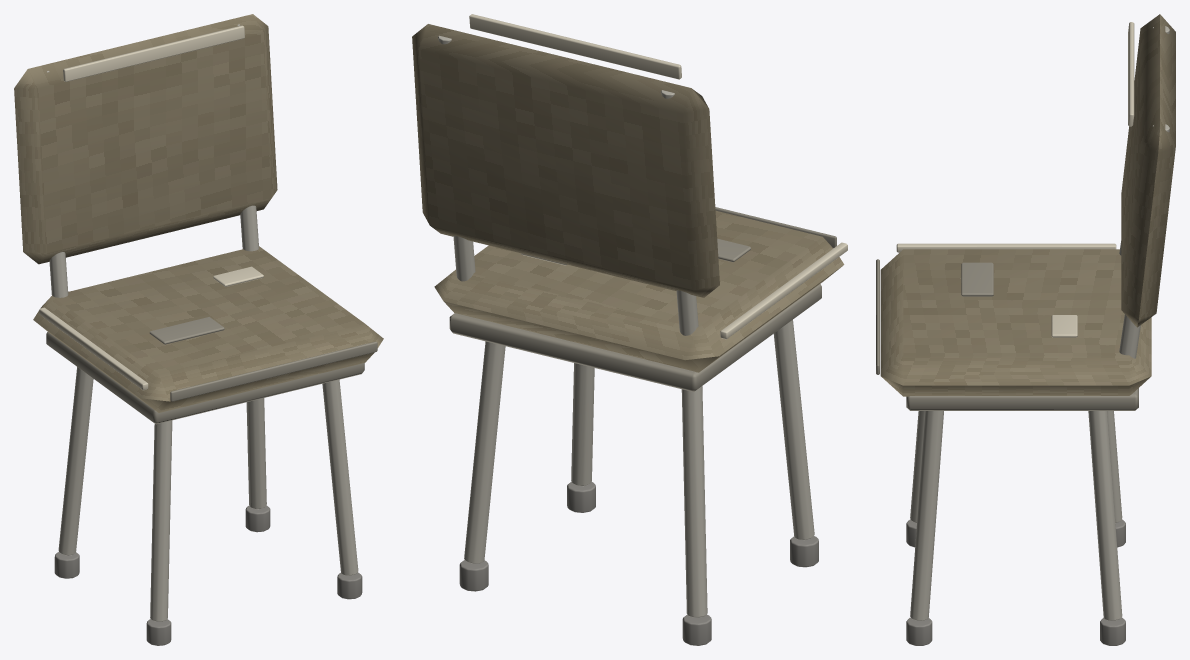
File: Chair_Old_A.glb
3 views of the same model, side by side, from view 1: azimuth 30°, elevation 25°; view 2: azimuth 150°, elevation 25°; view 3: azimuth 270°, elevation 25° (orthographic). The views are drawn at different scales.
Parts seen in each view (by area): view 1: Chair_Old_A_back_cushion, Chair_Old_A_seat_cushion, Chair_Old_A_underseat_shadow, Chair_Old_A_leg_-0.18_-0.15, Chair_Old_A_leg_0.18_-0.15, Chair_Old_A_leg_-0.18_0.15, Chair_Old_A_back_top_wear, Chair_Old_A_front_seam_shadow, Chair_Old_A_leg_0.18_0.15, Chair_Old_A_left_edge_wear, Chair_Old_A_seat_scuff_01, Chair_Old_A_back_tube_0.18 (+6 smaller); view 2: Chair_Old_A_back_cushion, Chair_Old_A_seat_cushion, Chair_Old_A_underseat_shadow, Chair_Old_A_leg_-0.18_0.15, Chair_Old_A_leg_0.18_0.15, Chair_Old_A_leg_-0.18_-0.15, Chair_Old_A_back_top_wear, Chair_Old_A_leg_0.18_-0.15, Chair_Old_A_left_edge_wear, Chair_Old_A_back_tube_-0.18, Chair_Old_A_back_tube_0.18, Chair_Old_A_black_foot_-0.18_0.15 (+3 smaller); view 3: Chair_Old_A_seat_cushion, Chair_Old_A_back_cushion, Chair_Old_A_leg_0.18_0.15, Chair_Old_A_leg_0.18_-0.15, Chair_Old_A_underseat_shadow, Chair_Old_A_left_edge_wear, Chair_Old_A_seat_scuff_01, Chair_Old_A_leg_-0.18_-0.15, Chair_Old_A_leg_-0.18_0.15, Chair_Old_A_back_top_wear, Chair_Old_A_black_foot_0.18_-0.15, Chair_Old_A_back_tube_0.18 (+3 smaller).
Boxes of the visible parts, x1,y1,x2,y2 form: Chair_Old_A_back_cushion: [14, 14, 277, 264]; Chair_Old_A_seat_cushion: [33, 246, 383, 412]; Chair_Old_A_underseat_shadow: [46, 332, 364, 424]; Chair_Old_A_leg_-0.18_-0.15: [150, 420, 172, 621]; Chair_Old_A_leg_0.18_-0.15: [322, 379, 358, 575]; Chair_Old_A_leg_-0.18_0.15: [58, 367, 93, 555]; Chair_Old_A_back_top_wear: [63, 25, 244, 81]; Chair_Old_A_front_seam_shadow: [170, 341, 377, 401]; Chair_Old_A_leg_0.18_0.15: [246, 398, 266, 509]; Chair_Old_A_left_edge_wear: [39, 307, 148, 390]; Chair_Old_A_seat_scuff_01: [149, 317, 224, 344]; Chair_Old_A_back_tube_0.18: [237, 24, 258, 251]; Chair_Old_A_back_cushion: [412, 24, 719, 297]; Chair_Old_A_seat_cushion: [434, 210, 844, 372]; Chair_Old_A_underseat_shadow: [449, 284, 821, 391]; Chair_Old_A_leg_-0.18_0.15: [681, 386, 707, 617]; Chair_Old_A_leg_0.18_0.15: [464, 341, 505, 563]; Chair_Old_A_leg_-0.18_-0.15: [773, 320, 814, 540]; Chair_Old_A_back_top_wear: [469, 14, 681, 79]; Chair_Old_A_leg_0.18_-0.15: [571, 363, 594, 486]; Chair_Old_A_left_edge_wear: [720, 242, 847, 339]; Chair_Old_A_back_tube_-0.18: [661, 90, 698, 335]; Chair_Old_A_back_tube_0.18: [438, 35, 475, 281]; Chair_Old_A_black_foot_-0.18_0.15: [682, 614, 711, 645]; Chair_Old_A_seat_cushion: [880, 249, 1151, 396]; Chair_Old_A_back_cushion: [1121, 14, 1175, 327]; Chair_Old_A_leg_0.18_0.15: [1088, 411, 1122, 620]; Chair_Old_A_leg_0.18_-0.15: [910, 411, 943, 620]; Chair_Old_A_underseat_shadow: [906, 388, 1138, 410]; Chair_Old_A_left_edge_wear: [896, 243, 1116, 252]; Chair_Old_A_seat_scuff_01: [961, 262, 993, 296]; Chair_Old_A_leg_-0.18_-0.15: [910, 411, 925, 522]; Chair_Old_A_leg_-0.18_0.15: [1107, 411, 1122, 523]; Chair_Old_A_back_top_wear: [1128, 22, 1134, 126]; Chair_Old_A_black_foot_0.18_-0.15: [906, 617, 932, 645]; Chair_Old_A_back_tube_0.18: [1119, 124, 1169, 358].
Bounding box in the file's own units: 0.48 × 0.8961 × 0.4642.
Materials: 5 (1 with a texture image).
